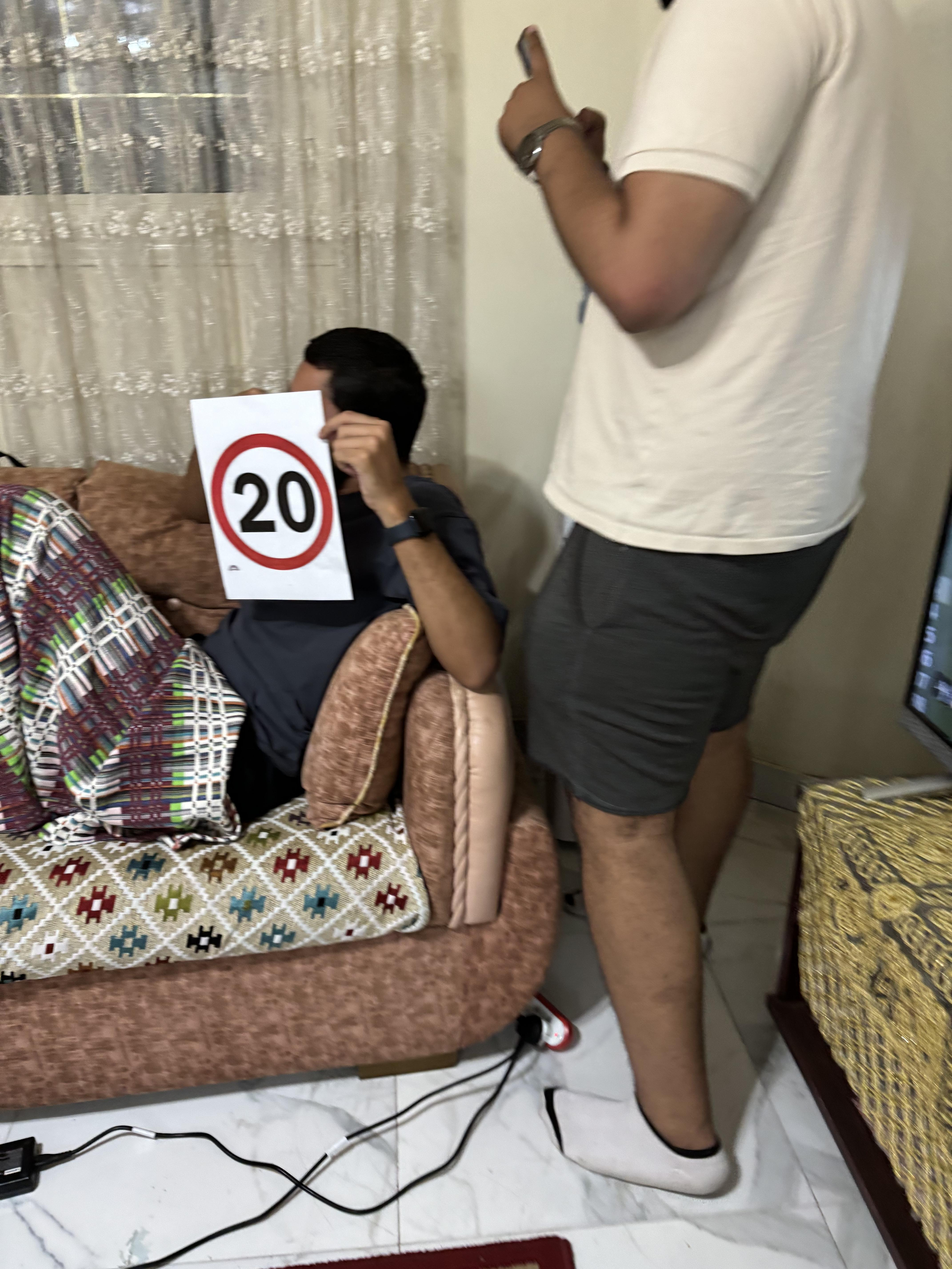20-Speed: (203, 423, 343, 575)
